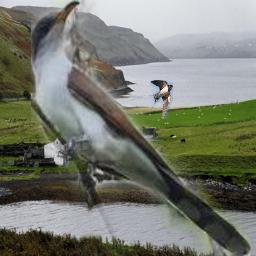Cuckoo: (31, 0, 251, 256)
Swallow: (143, 80, 173, 119)
